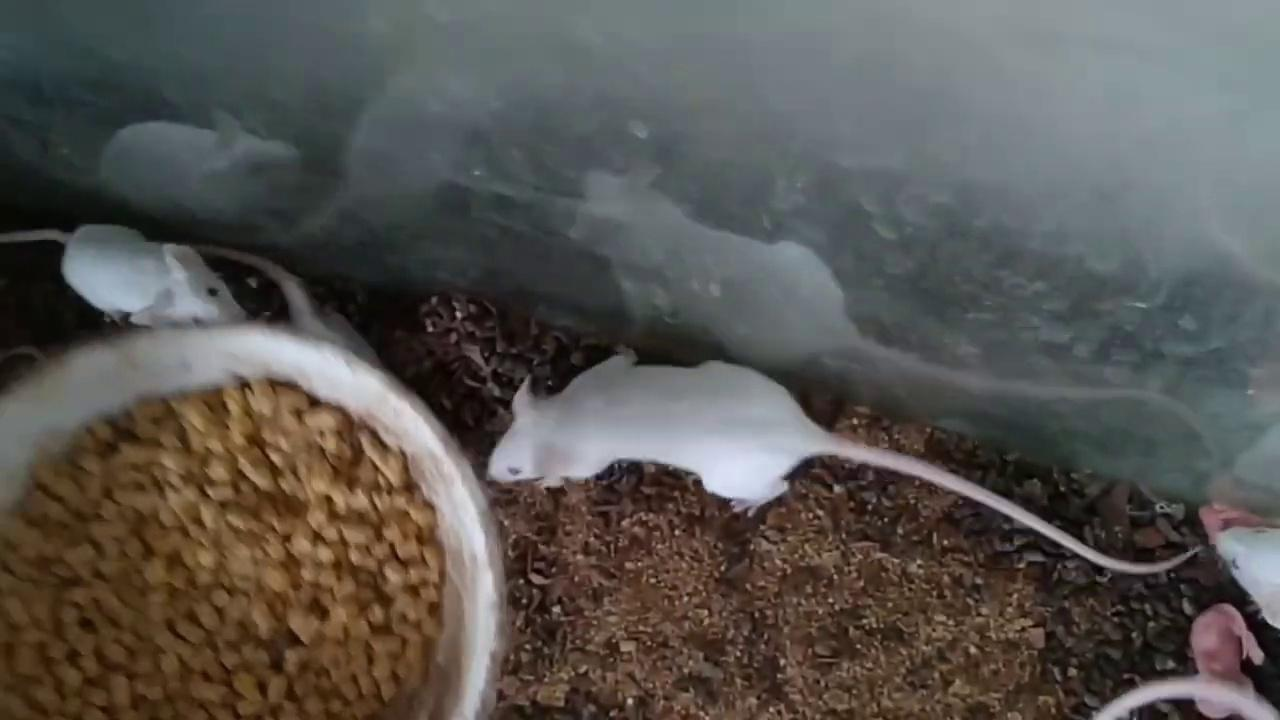rat: (488, 354, 1202, 574), (0, 224, 248, 327)
